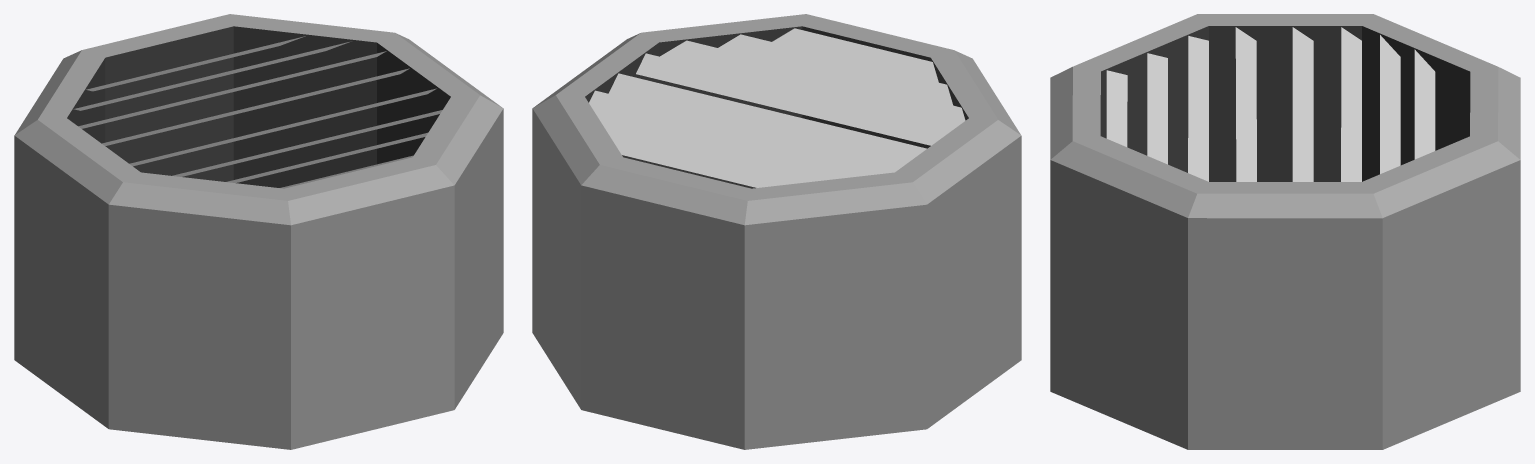
File: Vent3.fbx
The picture shows the model from 3 angles, left to right: view 1: azimuth 30°, elevation 25°; view 2: azimuth 150°, elevation 25°; view 3: azimuth 270°, elevation 25°; orthographic projection. The views are drawn at different scales.
Parts seen in each view (by area): view 1: vents_3; view 2: vents_3; view 3: vents_3.
Boxes of the visible parts, x1,y1,x2,y2 form: vents_3: (14, 14, 503, 449); vents_3: (532, 14, 1021, 449); vents_3: (1050, 14, 1520, 449).
Bounding box in the file's own units: 388 × 224 × 388.
